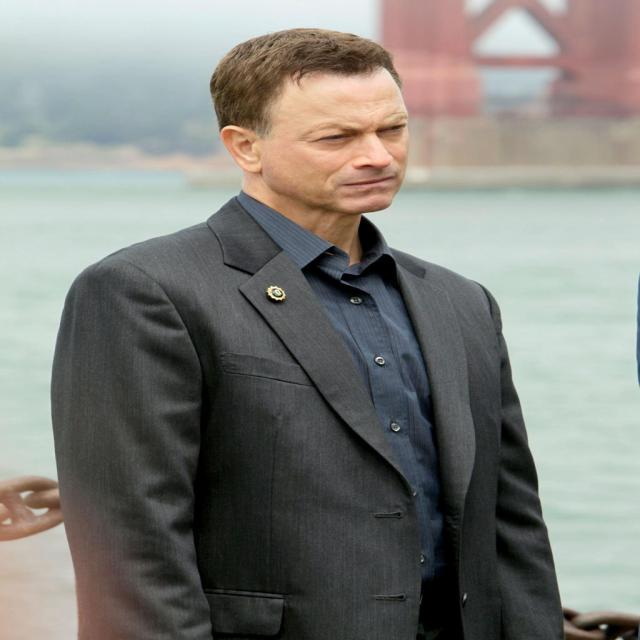no-earmuff: (203, 115, 294, 202)
